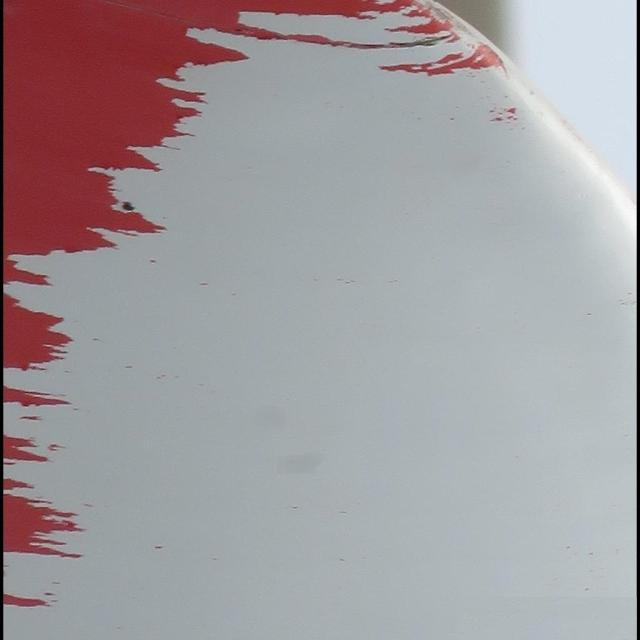surface_peeling: (80, 0, 508, 243), (1, 1, 73, 612)
